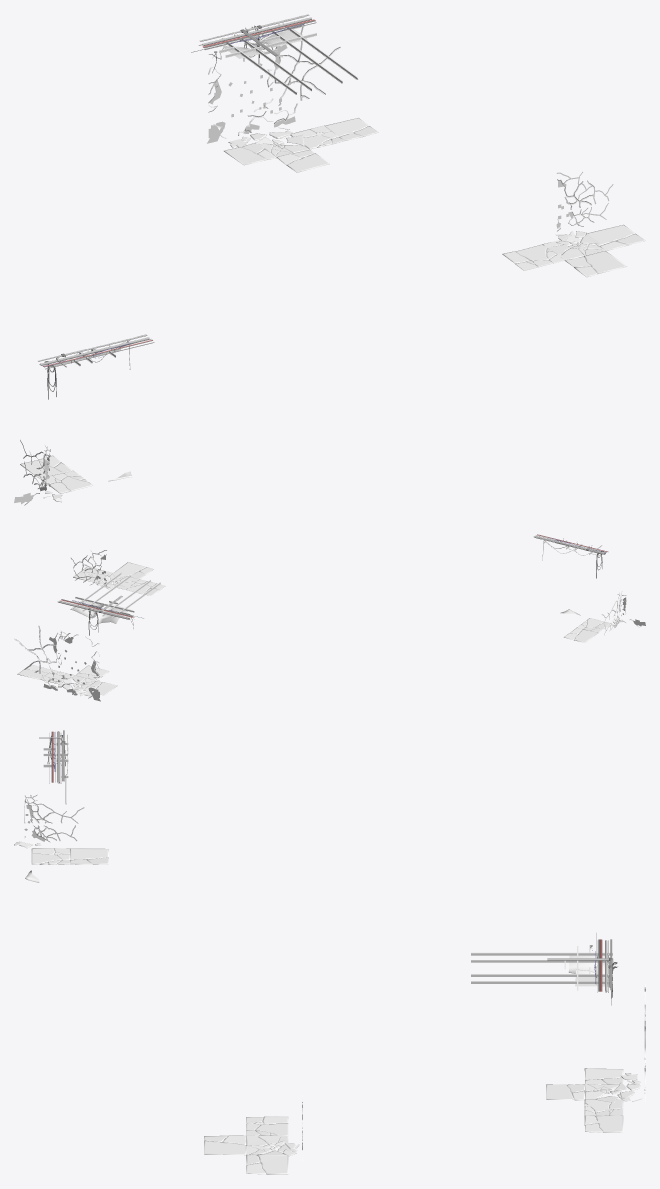
The picture shows the model from 3 angles, top to bottom: view 1: azimuth 30°, elevation 25°; view 2: azimuth 150°, elevation 25°; view 3: azimuth 270°, elevation 25°; orthographic projection. The views are drawn at different scales.
Parts seen in each view (by area): view 1: SM_H_Building_FutureTech_CtControl_01_InterWall_11A; view 2: SM_H_Building_FutureTech_CtControl_01_InterWall_11A; view 3: SM_H_Building_FutureTech_CtControl_01_InterWall_11A.
Part boxes in pixels (left/top/right/bottom): SM_H_Building_FutureTech_CtControl_01_InterWall_11A: left=14, top=14, right=645, bottom=505; SM_H_Building_FutureTech_CtControl_01_InterWall_11A: left=14, top=534, right=645, bottom=701; SM_H_Building_FutureTech_CtControl_01_InterWall_11A: left=14, top=730, right=645, bottom=1174.
Size of the model in its own units: 906 by 1181 by 186.
